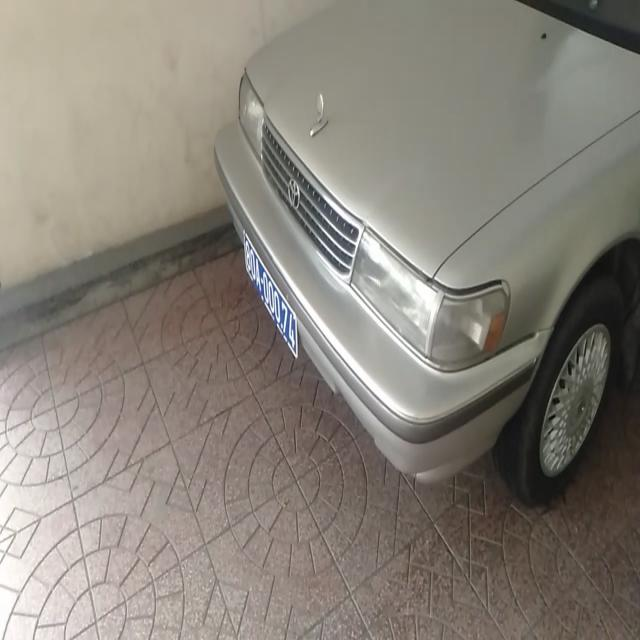bien_xanh: (243, 227, 297, 381)
